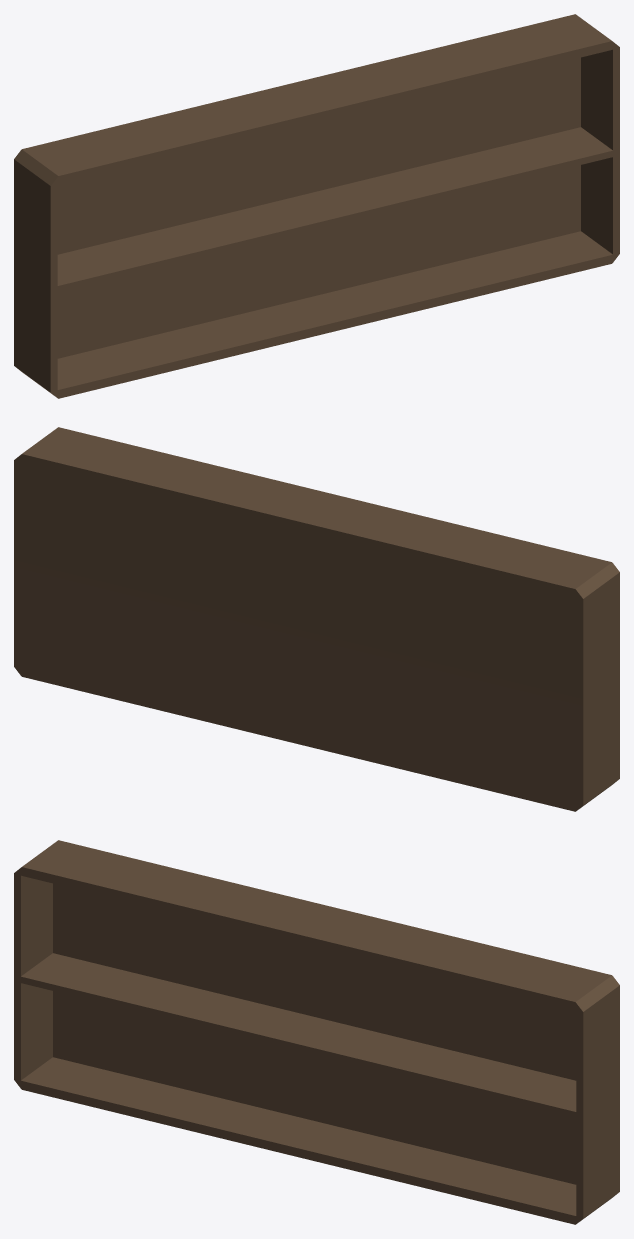
File: Estante Elevado.fbx
The picture shows the model from 3 angles, top to bottom: view 1: azimuth 30°, elevation 25°; view 2: azimuth 150°, elevation 25°; view 3: azimuth 330°, elevation 25°; orthographic projection.
Parts seen in each view (by area): view 1: Estante_elevado_1; view 2: Estante_elevado_1; view 3: Estante_elevado_1.
Part boxes in pixels (x1,y1,x2,y2): Estante_elevado_1: [14, 14, 619, 398]; Estante_elevado_1: [14, 427, 619, 811]; Estante_elevado_1: [14, 840, 619, 1224].
Size of the model in its own units: 7.99 by 2.99 by 0.8936.
